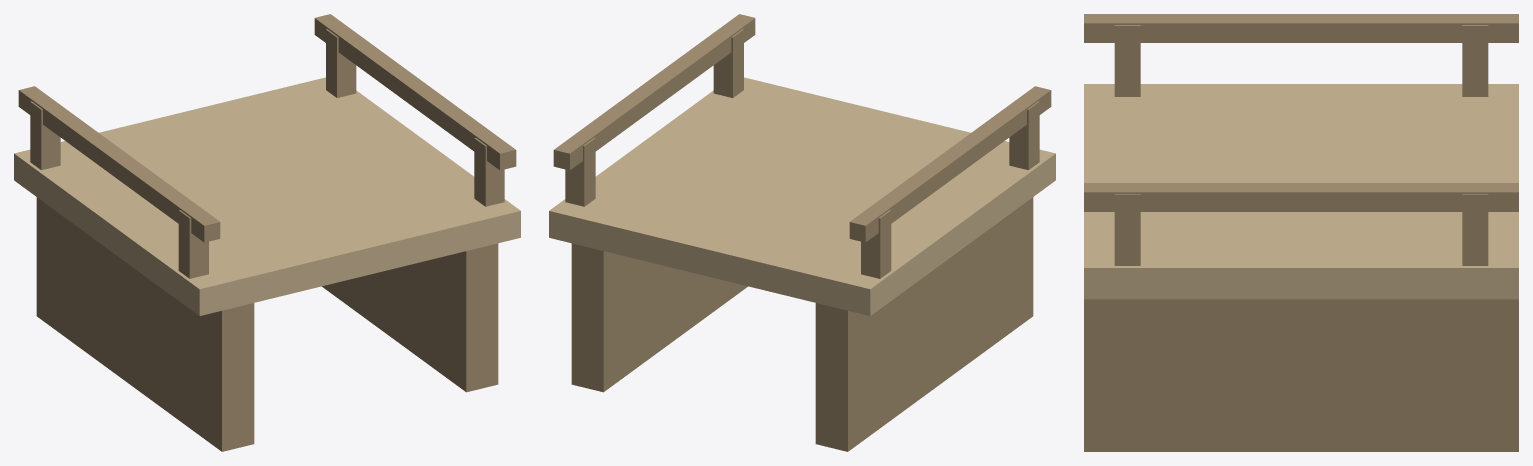
The model's file is bridge.glb.
3 renders of one model, left to right at view 1: azimuth 30°, elevation 25°; view 2: azimuth 150°, elevation 25°; view 3: azimuth 270°, elevation 25°, orthographic. The views are drawn at different scales.
Parts seen in each view (by area): view 1: bridge deck, bridge beam 1, bridge beam 2, bridge rail 2, bridge rail 1, bridge post 1 a, bridge post 2 a, bridge post 1 b, bridge post 2 b; view 2: bridge deck, bridge beam 1, bridge beam 2, bridge rail 2, bridge rail 1, bridge post 1 b, bridge post 2 b, bridge post 1 a, bridge post 2 a; view 3: bridge deck, bridge beam 2, bridge rail 2, bridge rail 1, bridge post 1 a, bridge post 1 b, bridge post 2 a, bridge post 2 b.
Part boxes in pixels (left/top/right/bottom): bridge deck: left=14, top=77, right=520, bottom=315; bridge beam 1: left=36, top=197, right=254, bottom=451; bridge beam 2: left=322, top=243, right=498, bottom=392; bridge rail 2: left=314, top=14, right=516, bottom=170; bridge rail 1: left=18, top=86, right=220, bottom=242; bridge post 1 a: left=178, top=210, right=208, bottom=278; bridge post 2 a: left=474, top=138, right=504, bottom=206; bridge post 1 b: left=30, top=101, right=60, bottom=170; bridge post 2 b: left=326, top=29, right=356, bottom=97; bridge deck: left=549, top=77, right=1055, bottom=315; bridge beam 1: left=815, top=197, right=1033, bottom=451; bridge beam 2: left=571, top=243, right=747, bottom=392; bridge rail 2: left=553, top=14, right=755, bottom=170; bridge rail 1: left=849, top=86, right=1051, bottom=242; bridge post 1 b: left=861, top=210, right=891, bottom=278; bridge post 2 b: left=565, top=138, right=595, bottom=206; bridge post 1 a: left=1009, top=101, right=1039, bottom=170; bridge post 2 a: left=713, top=29, right=743, bottom=97; bridge deck: left=1084, top=84, right=1518, bottom=299; bridge beam 2: left=1084, top=299, right=1518, bottom=451; bridge rail 2: left=1084, top=183, right=1518, bottom=211; bridge rail 1: left=1084, top=14, right=1518, bottom=42; bridge post 1 a: left=1114, top=25, right=1140, bottom=96; bridge post 1 b: left=1462, top=25, right=1488, bottom=96; bridge post 2 a: left=1114, top=194, right=1140, bottom=265; bridge post 2 b: left=1462, top=194, right=1488, bottom=265.
Bounding box in the file's own units: 1 × 0.685 × 1.
